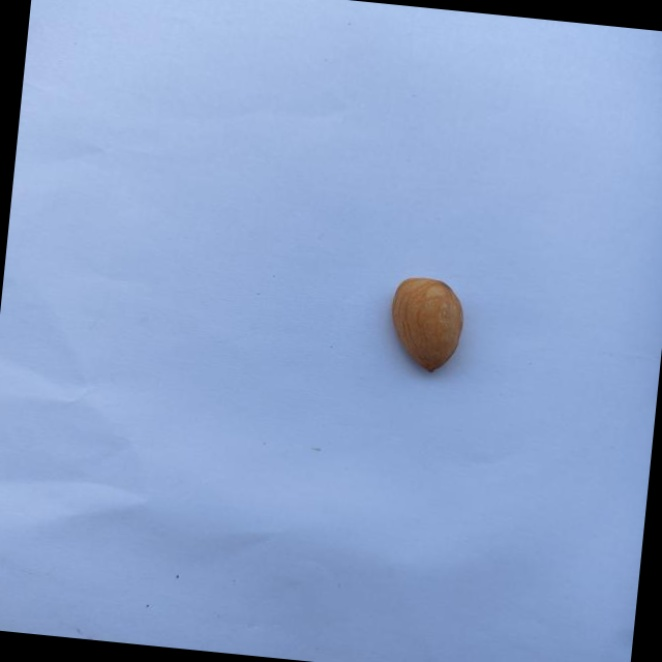grade2: (379, 271, 471, 378)
